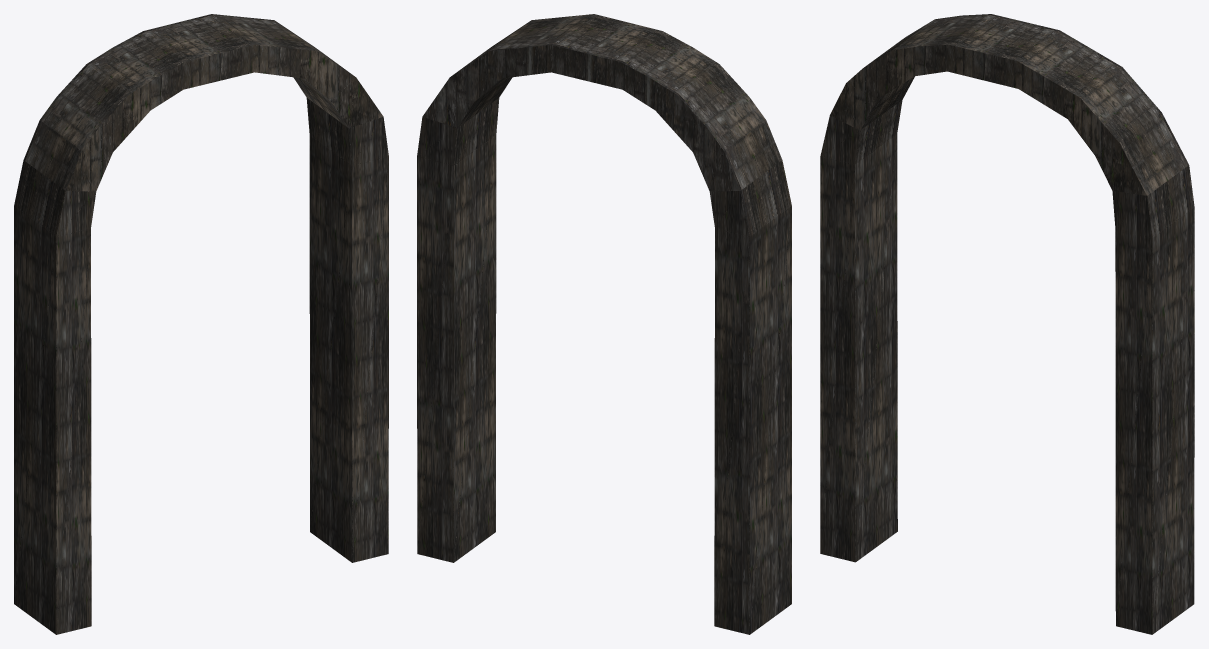
Rendered from arch.fbx.
3 renders of one model, left to right at view 1: azimuth 30°, elevation 25°; view 2: azimuth 150°, elevation 25°; view 3: azimuth 330°, elevation 25°, orthographic.
Visible parts, largest first — view 1: arch; view 2: arch; view 3: arch.
Boxes of the visible parts, <box> form: arch: <box>14,14,388,634</box>; arch: <box>417,14,791,634</box>; arch: <box>820,14,1194,634</box>.
Bounding box in the file's own units: 2.52 × 3.92 × 0.5531.
1 material, 1 textured.
